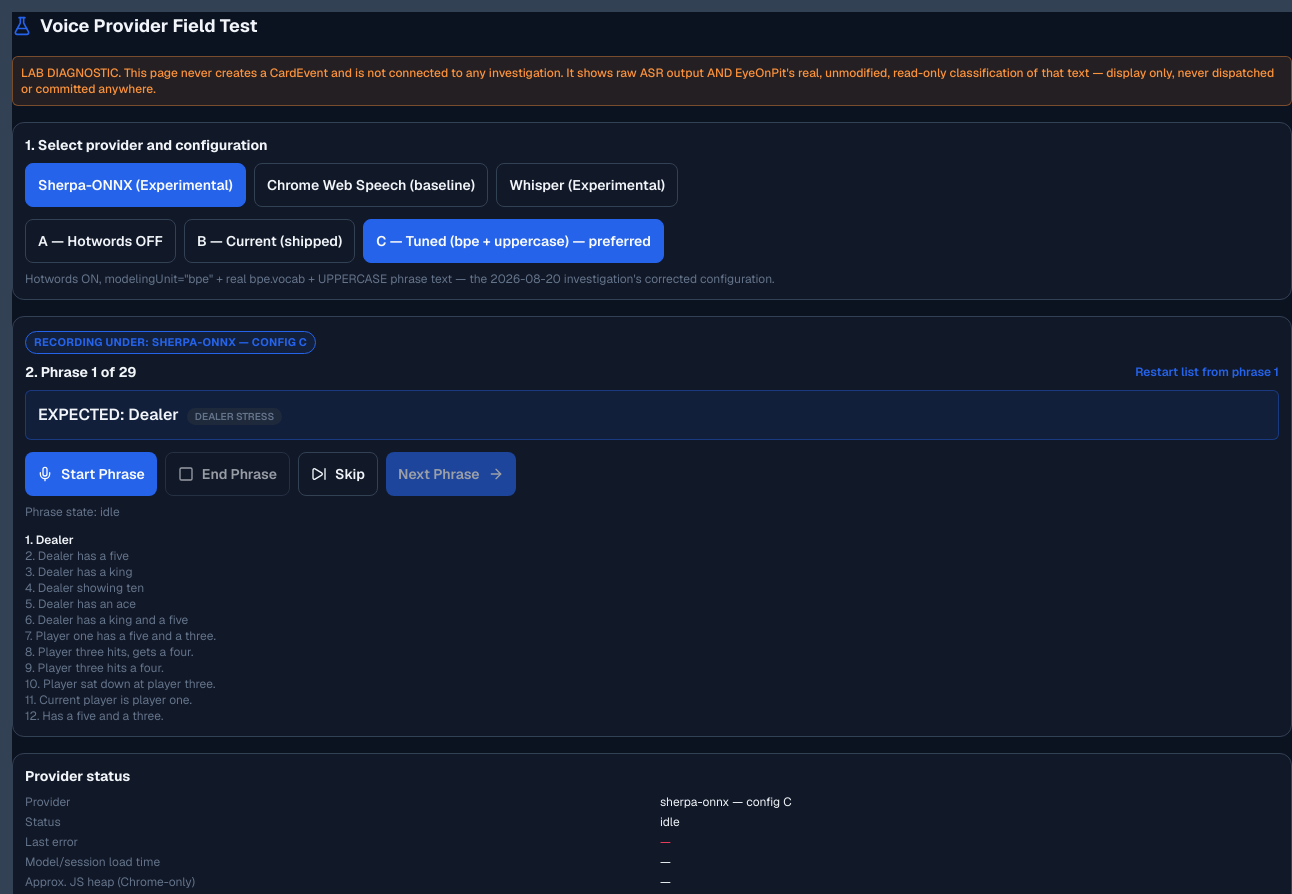
it: Sherpa A/B/C Lab page — REGRESSION (items 7 & 8, 2026-08-20 real mic session): config switch resets the phrase run cleanly, no page reload, no bleed › switching the provider (Sherpa -> Chrome baseline) also resets the phrase run and updates the banner
This screenshot has width=1292, height=894.
Click the button "Skip": (338, 474) [298, 452, 378, 496]
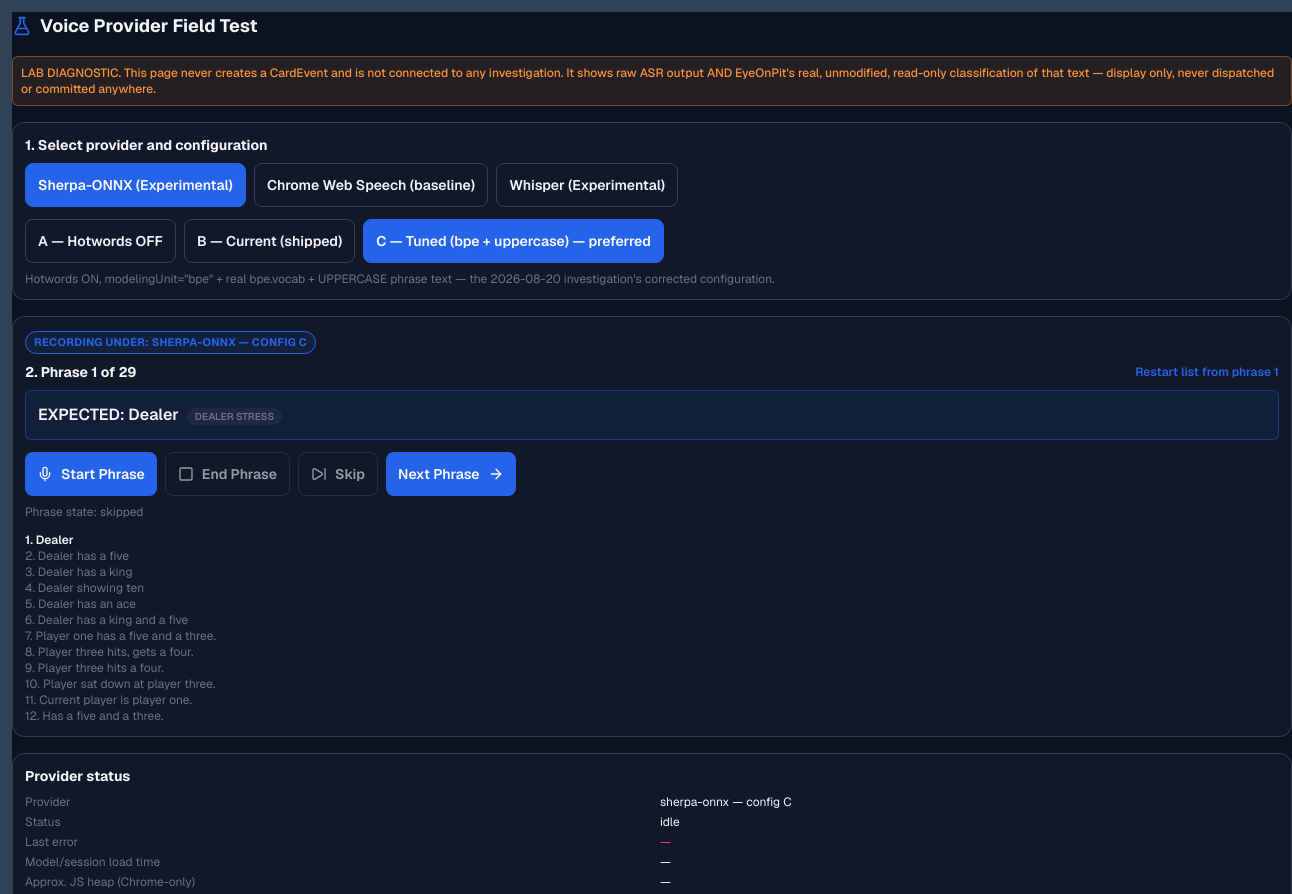
Click the button "Next Phrase": (451, 474) [386, 452, 516, 496]
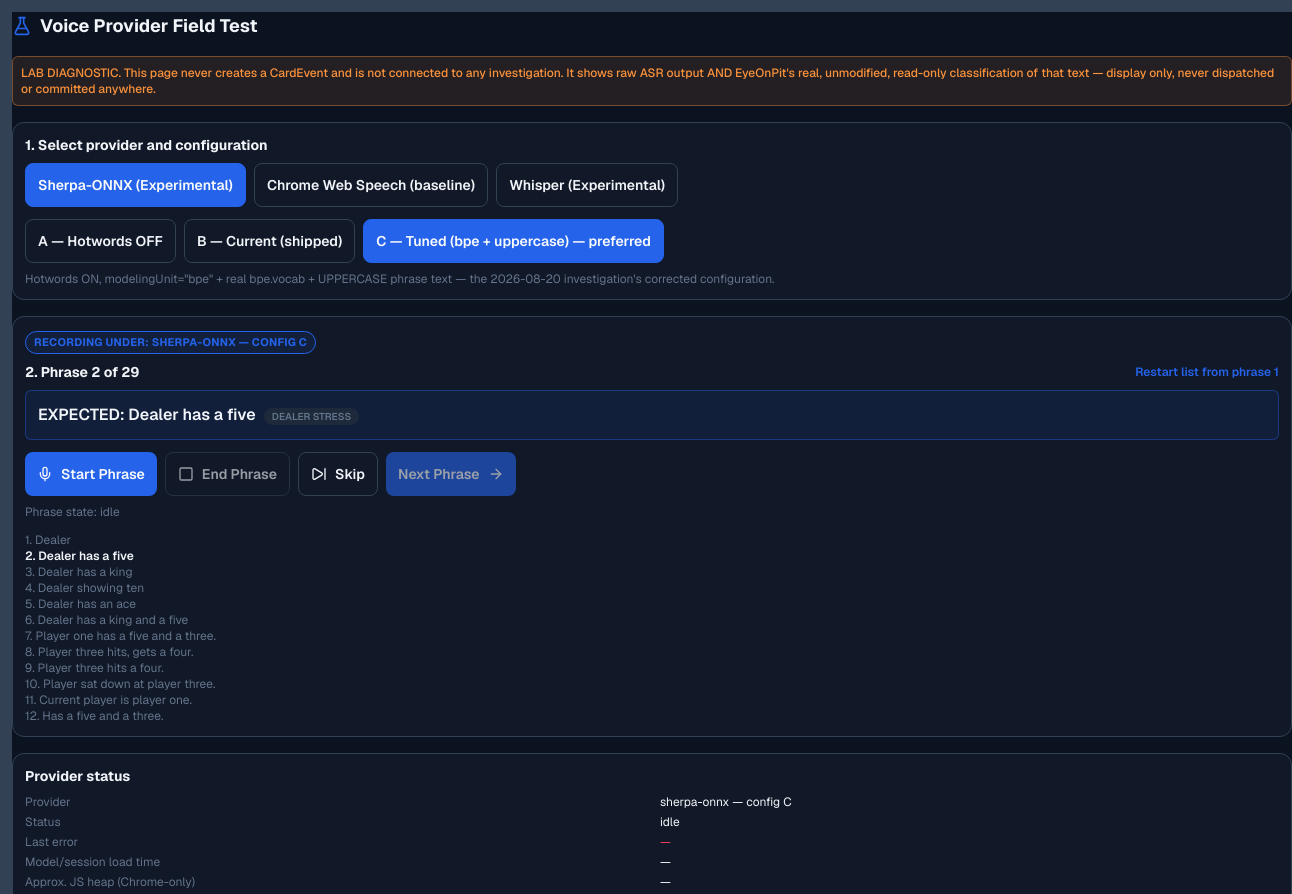
Check: the heading "2. Phrase 2 of 29" is shown, box [25, 362, 139, 382]
Click the button "Chrome Web Speech (baseline)": (371, 185) [254, 163, 488, 207]
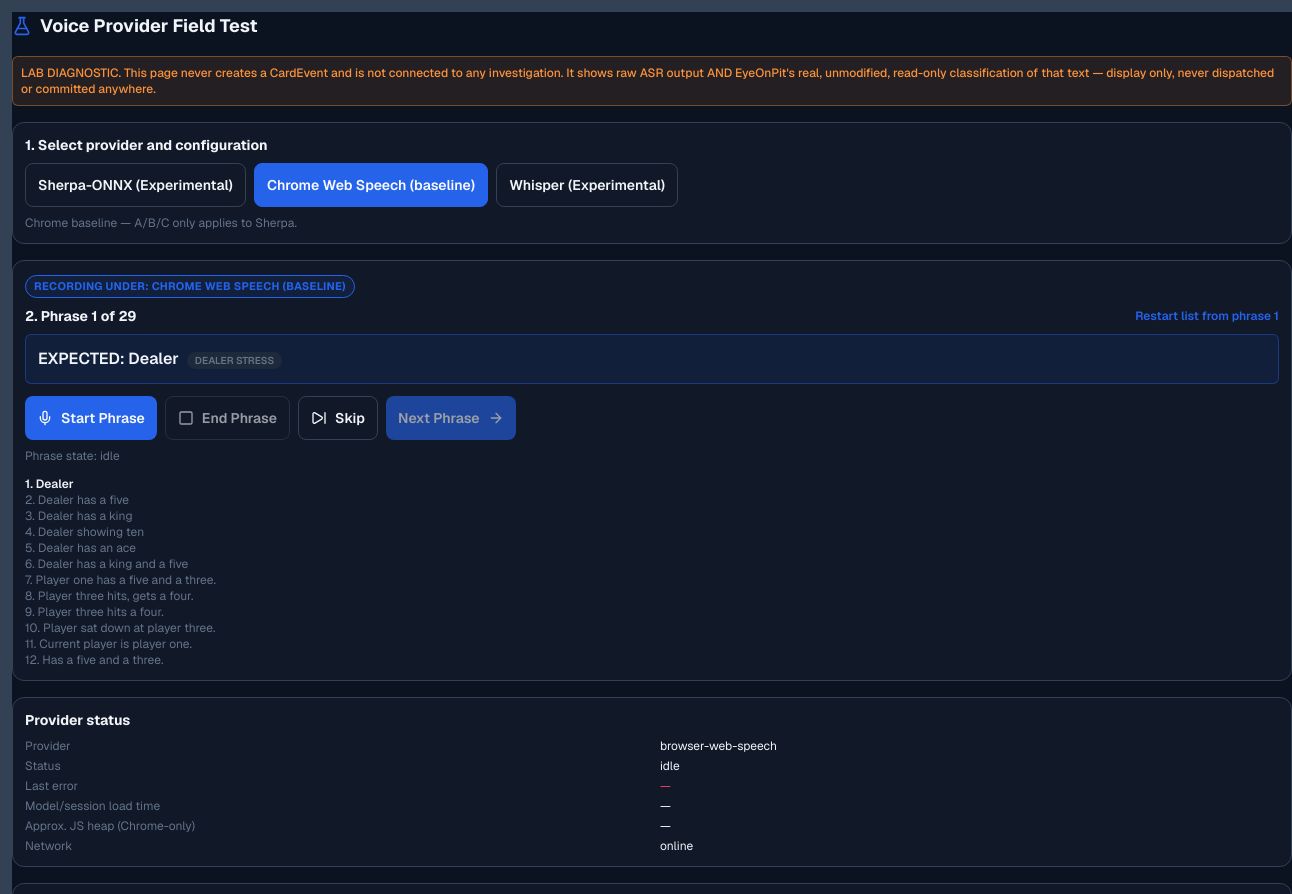
Check: the heading "2. Phrase 1 of 29" is shown, box [25, 306, 136, 326]
Check: the text with test id "active-config-banner" shows "Chrome Web Speech", box [152, 279, 346, 293]
